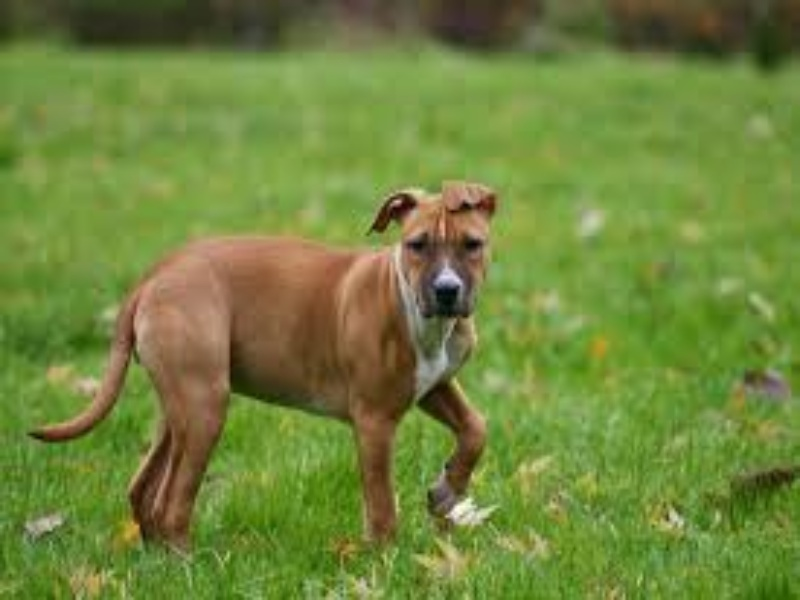dog: (31, 175, 505, 578)
